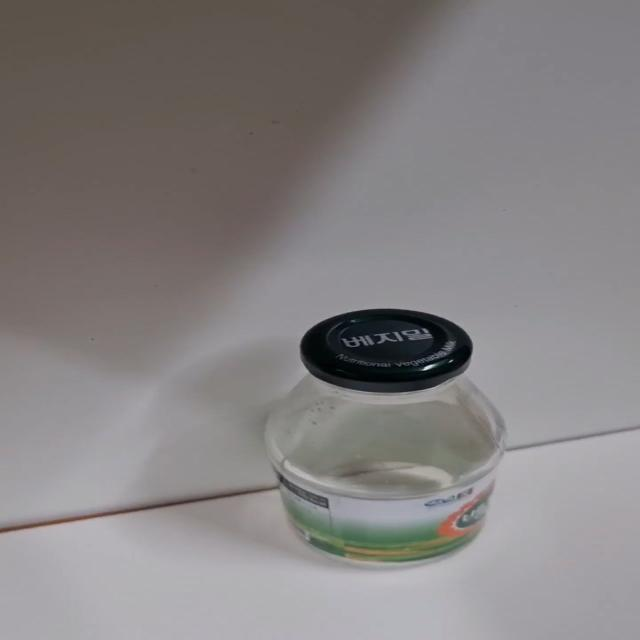Glass: (263, 309, 508, 570)
